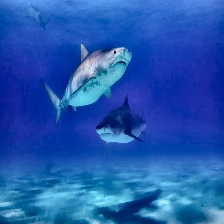shark: (41, 44, 133, 126), (95, 93, 147, 144)
